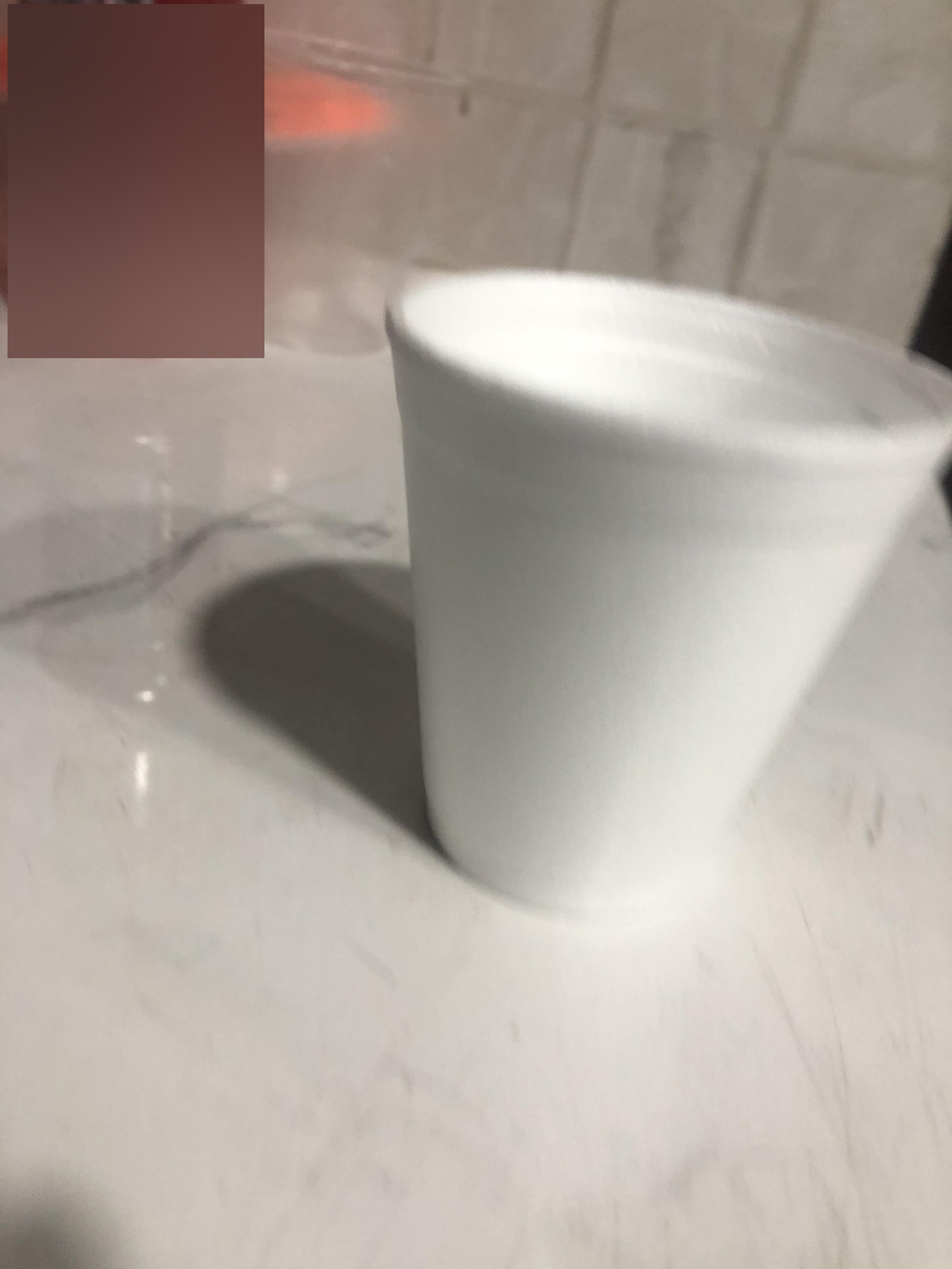cup-disposable: (385, 264, 952, 932)
